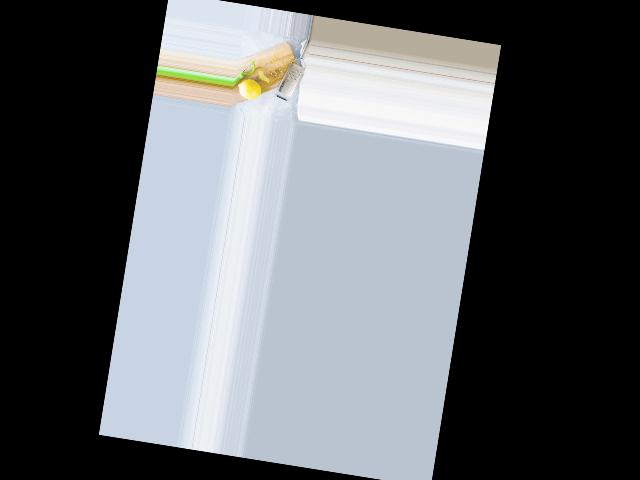lemon: (236, 77, 262, 101)
